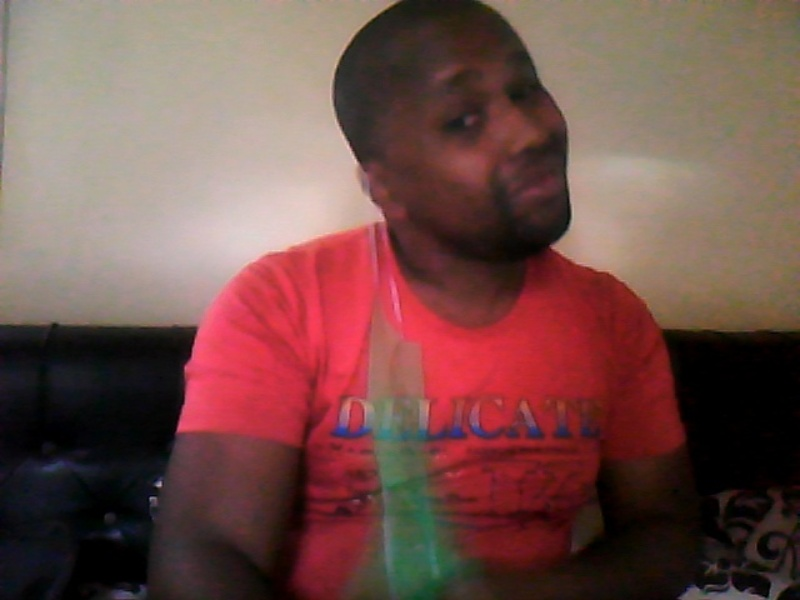TsisyArotava: (359, 19, 604, 275)
